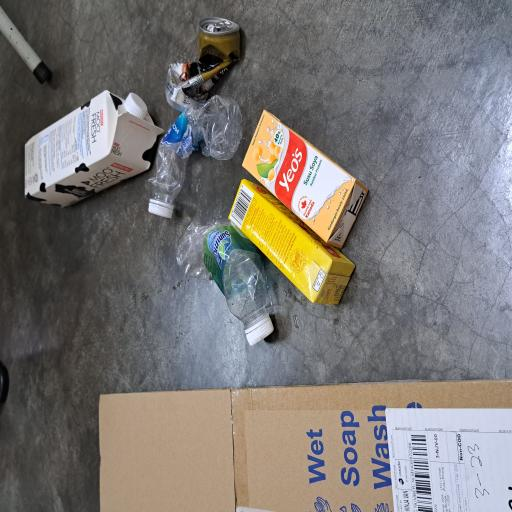can: (302, 219, 371, 323)
cardboard: (0, 130, 98, 512)
drink carton: (201, 322, 302, 492), (227, 32, 318, 220), (156, 302, 248, 475)
plastic bottle: (126, 235, 216, 365), (222, 198, 313, 324)
plastic bottle cap: (126, 326, 150, 368), (294, 166, 315, 199), (220, 198, 237, 230)
pop tab: (360, 275, 371, 307)
